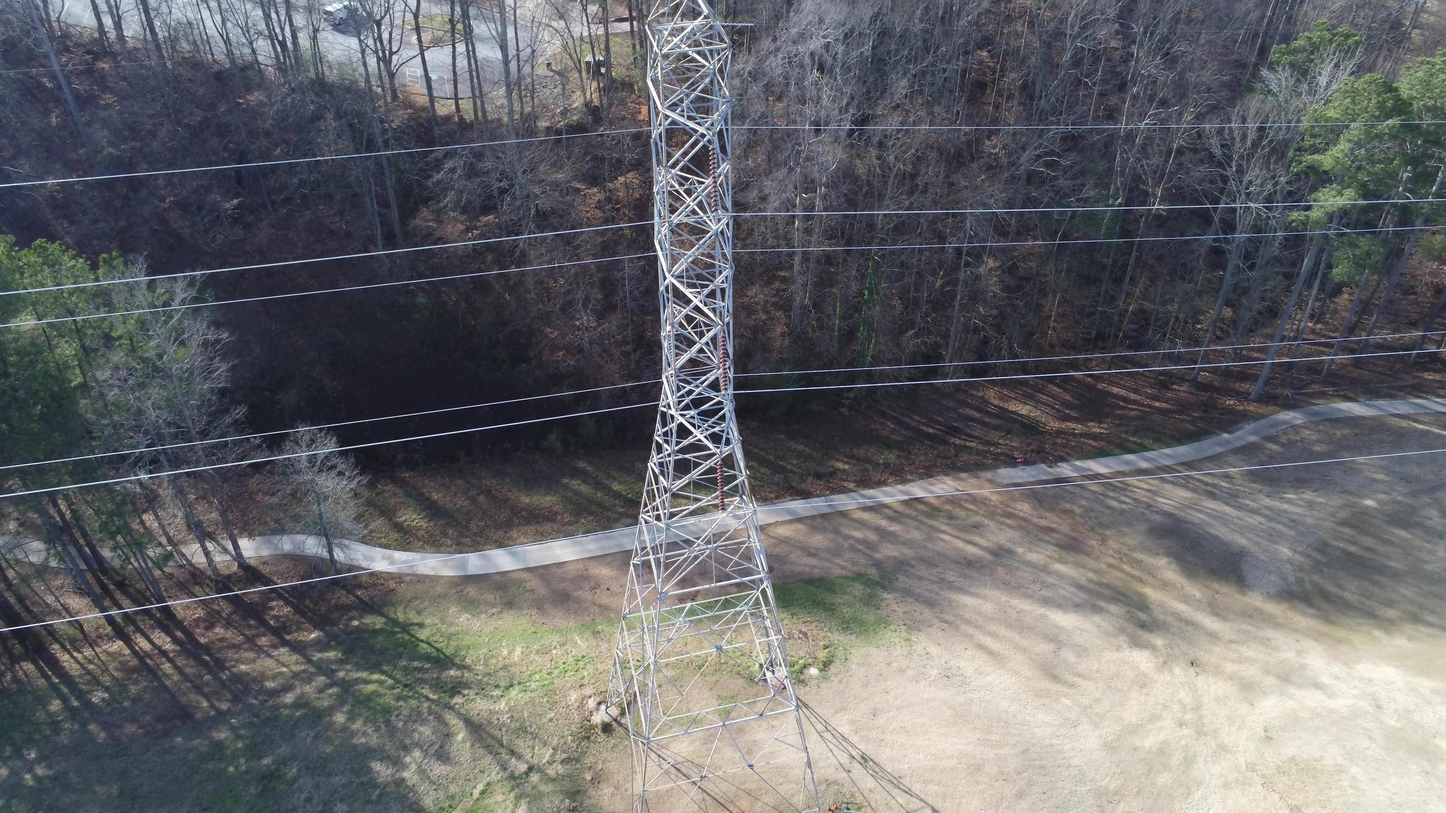power_tower: (605, 0, 821, 813)
